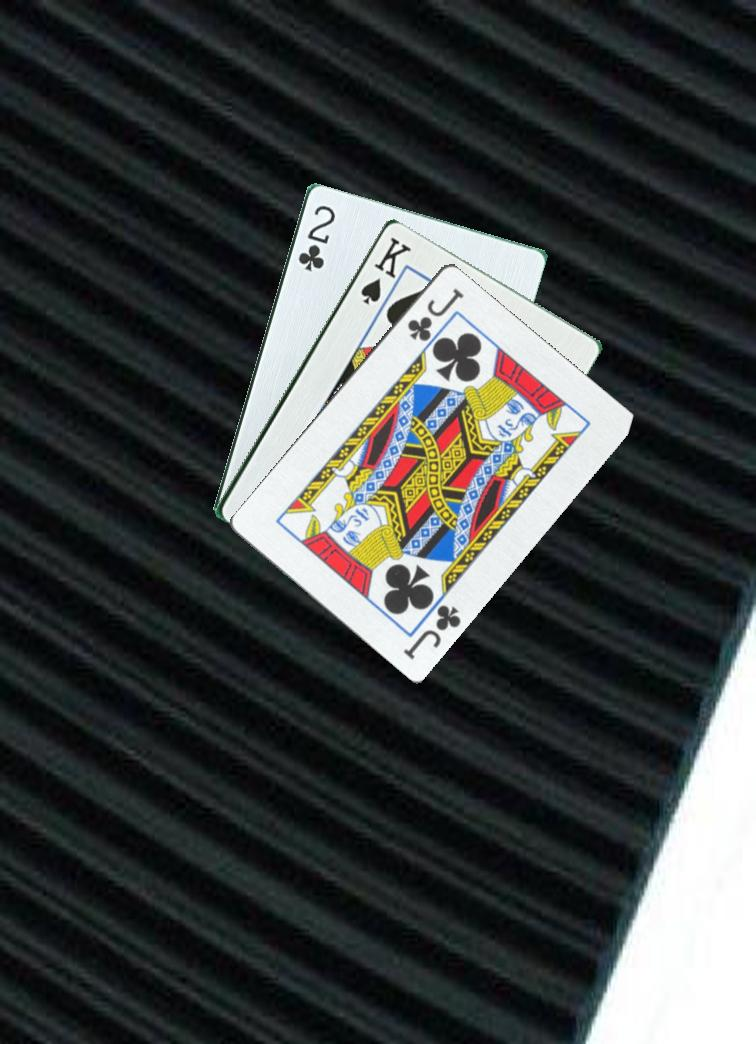2c: (294, 201, 338, 274)
jc: (400, 600, 464, 662), (403, 283, 466, 344)
ks: (356, 233, 414, 307)
